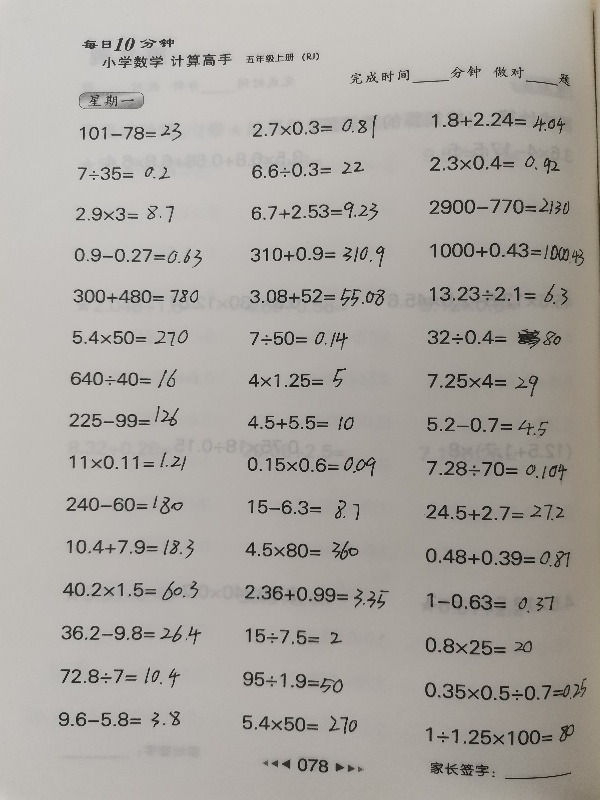equation: (426, 239, 590, 271), (420, 676, 590, 704), (422, 722, 578, 749), (241, 582, 392, 609), (250, 111, 381, 142), (426, 278, 571, 306), (59, 577, 202, 605), (424, 325, 565, 353), (248, 243, 389, 271), (421, 545, 573, 570), (247, 285, 389, 311), (57, 620, 204, 645), (423, 457, 570, 482), (243, 451, 379, 478), (428, 108, 569, 134), (248, 198, 382, 225), (426, 150, 563, 176), (56, 661, 183, 689), (426, 195, 574, 219), (64, 536, 198, 562), (420, 501, 568, 524), (424, 369, 541, 398), (70, 244, 205, 269), (423, 590, 557, 615), (244, 493, 363, 521), (65, 404, 182, 432), (62, 490, 187, 516), (65, 447, 190, 473), (242, 538, 363, 564), (423, 413, 552, 437), (67, 365, 181, 392), (238, 711, 361, 736), (68, 326, 192, 350), (55, 707, 183, 730), (70, 285, 202, 307), (76, 119, 186, 145), (245, 365, 350, 392), (239, 668, 347, 694), (247, 158, 367, 181), (421, 634, 535, 658), (246, 326, 351, 351), (73, 202, 178, 227), (245, 412, 358, 434), (241, 625, 345, 648), (74, 163, 174, 185)
